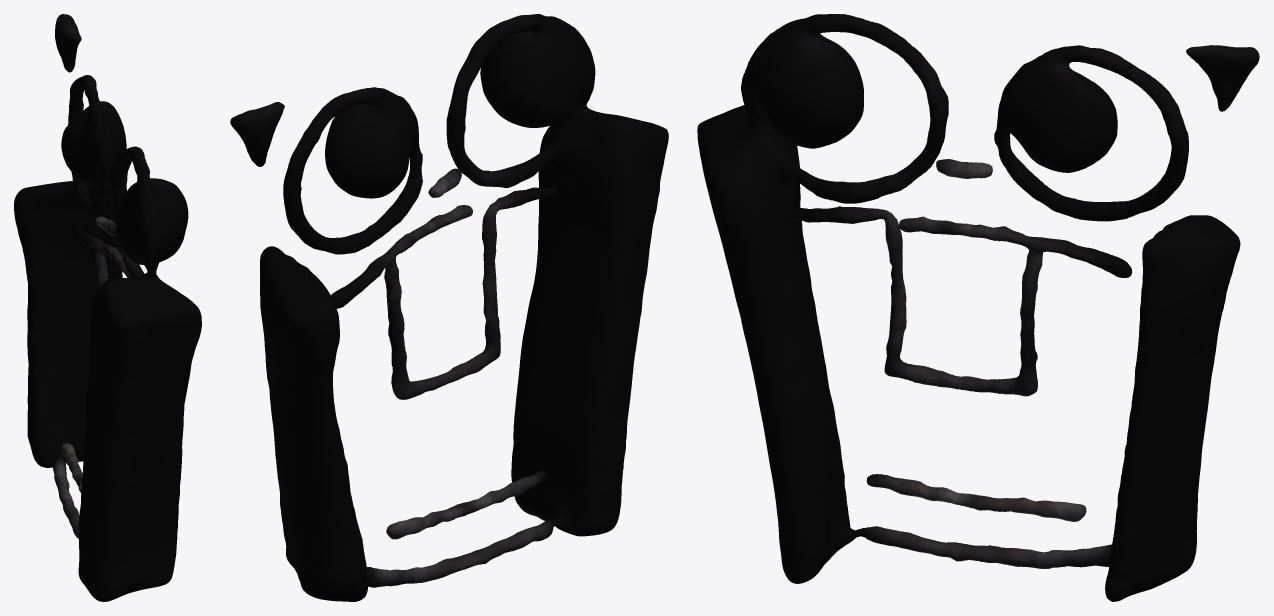
The model's file is otie.glb.
3 renders of one model, left to right at view 1: azimuth 30°, elevation 25°; view 2: azimuth 150°, elevation 25°; view 3: azimuth 270°, elevation 25°, orthographic. The views are drawn at different scales.
Parts seen in each view (by area): view 1: geometry_0; view 2: geometry_0; view 3: geometry_0.
Part boxes in pixels (<box>): geometry_0: <box>14,14,201,601</box>; geometry_0: <box>230,14,668,601</box>; geometry_0: <box>697,14,1259,601</box>.
Size of the model in its own units: 0.3503 by 0.8573 by 0.7485.
Materials: 1 (1 with a texture image).
